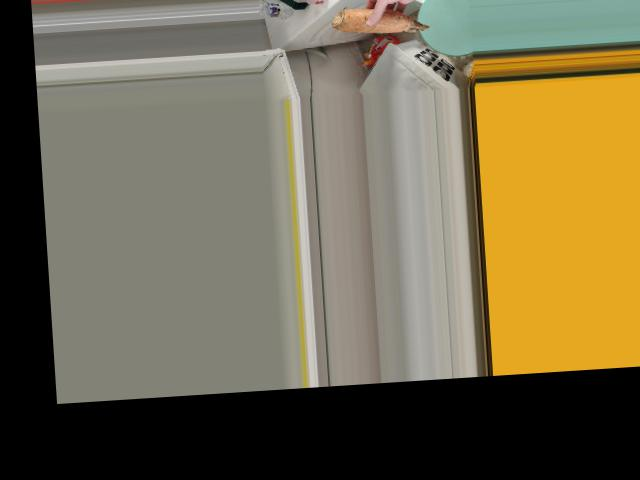sweet_potato: (332, 2, 425, 35)
